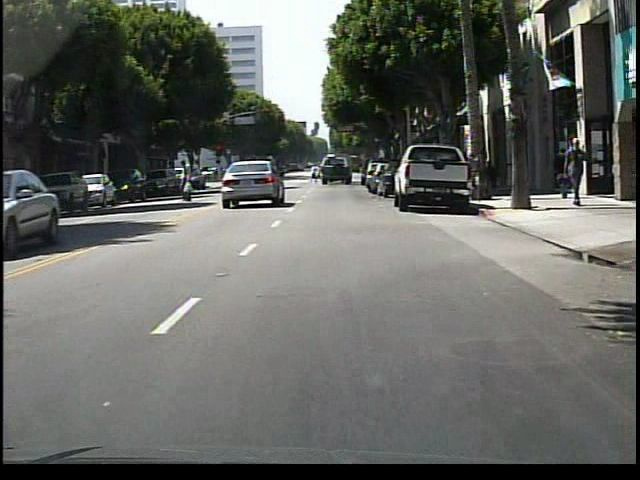person: (565, 134, 591, 206), (552, 144, 570, 201), (179, 157, 198, 203), (312, 164, 321, 185)
